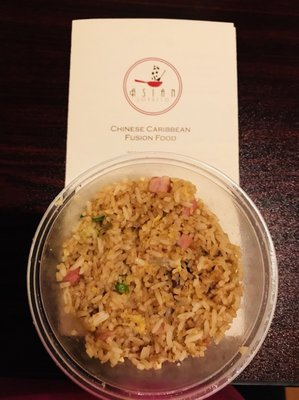sushi: (37, 153, 277, 394)
